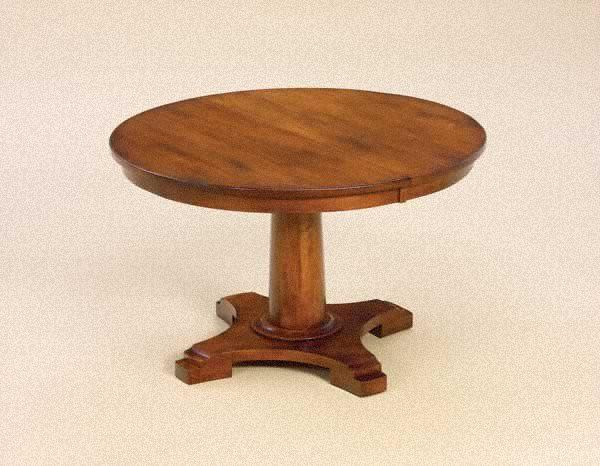table: (109, 86, 488, 398)
